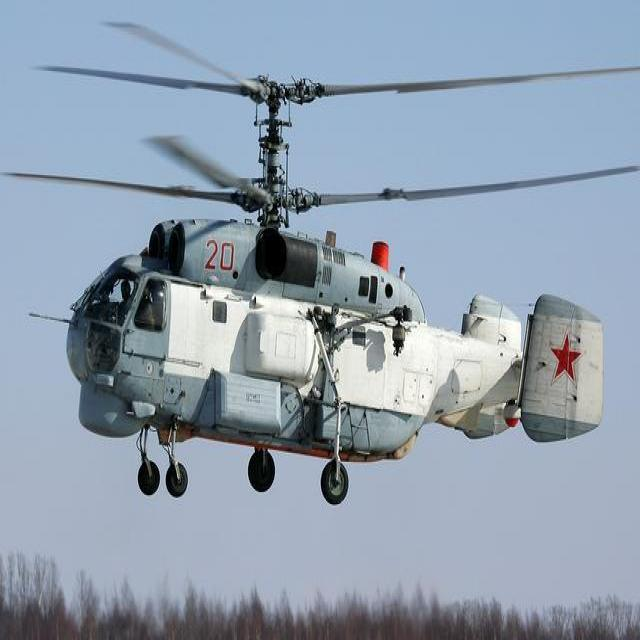MIL_HELO: (13, 21, 640, 513)
